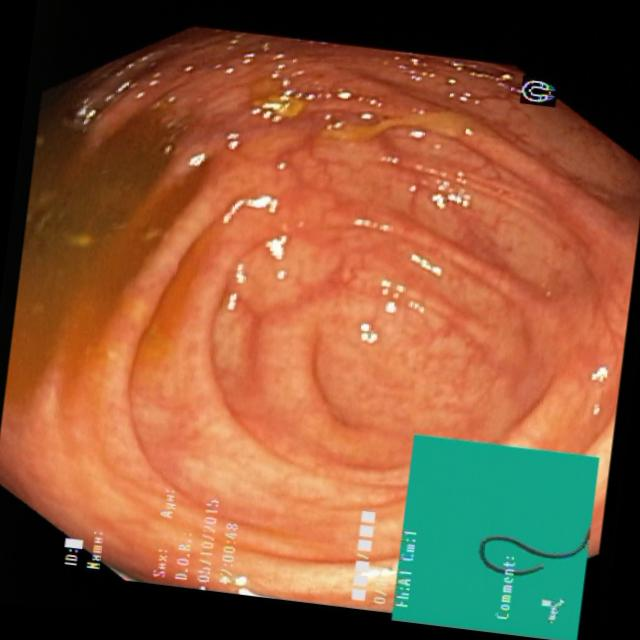normal-cecum: (1, 71, 242, 445), (249, 60, 478, 157)
